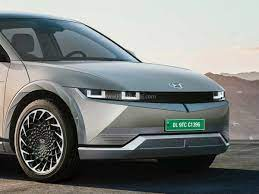Honda Ioniq: (2, 7, 237, 187)
